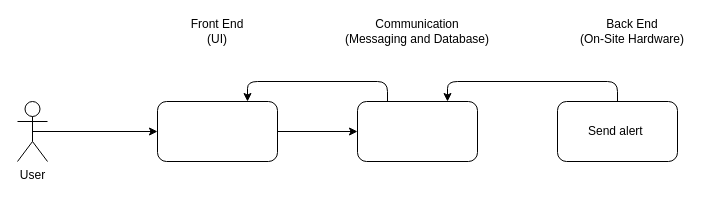
This 705x200 diagram has some shape labels left out. Here are the shapes that lost their labels. From the top down, the centre of each, then its label:
(x=217, y=131): Alerts Page (View alerts)
(x=417, y=131): Return alerts from the database
